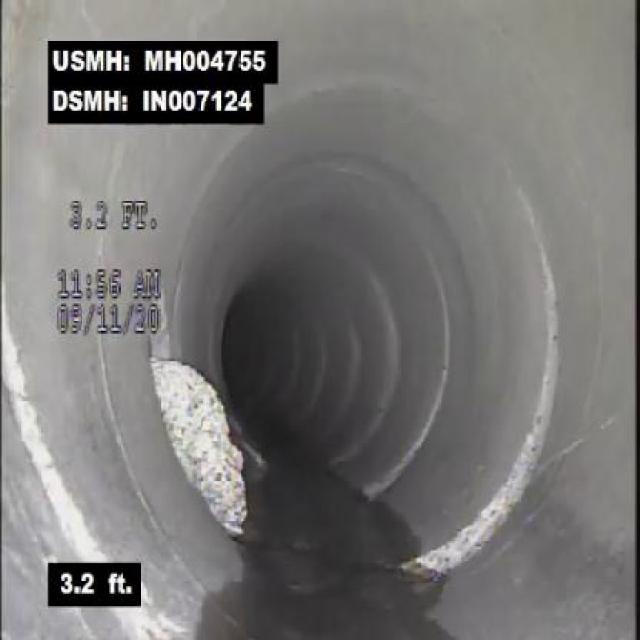Debris: (140, 340, 271, 548)
